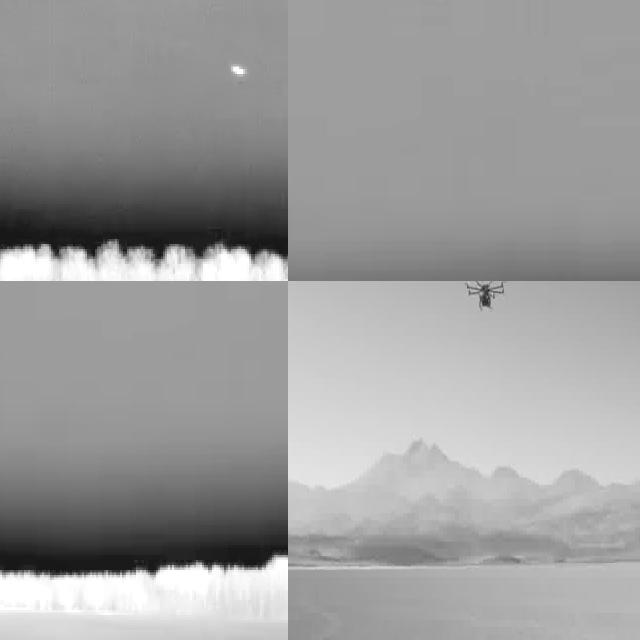1: (218, 58, 254, 88)
drone: (461, 281, 507, 319)
